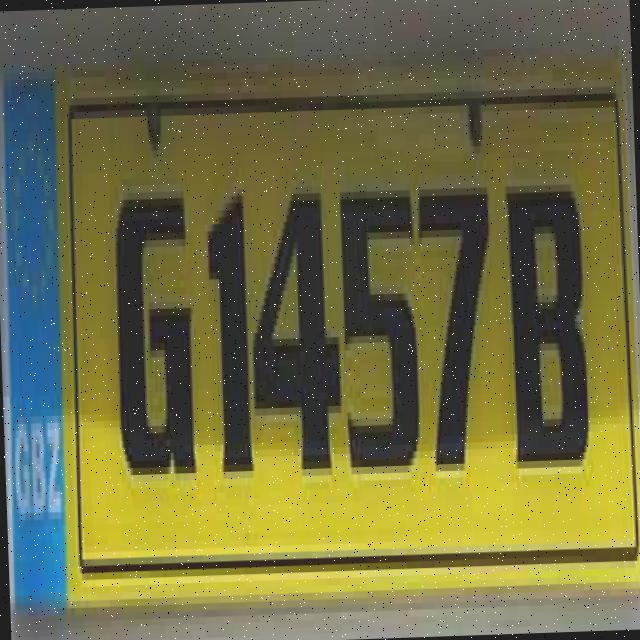Autre: (0, 21, 640, 600)
